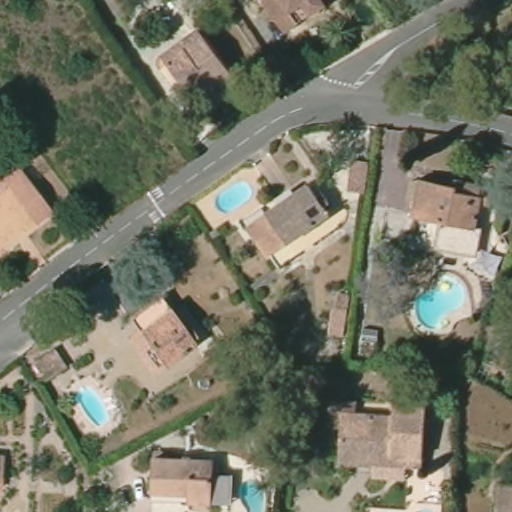pool: (407, 266, 478, 331), (72, 382, 115, 429), (211, 177, 254, 215), (236, 474, 269, 508)
